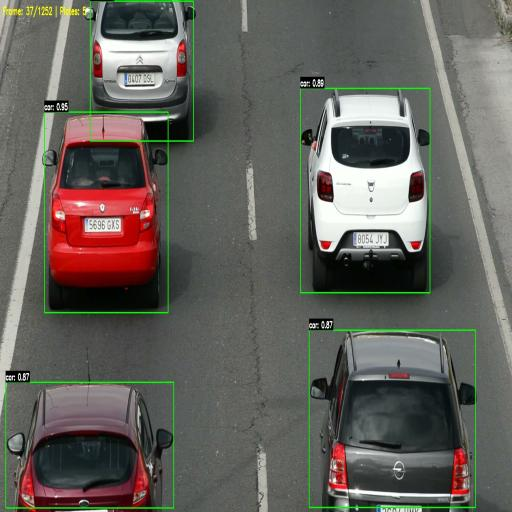license-plate: (353, 232, 389, 248), (376, 505, 423, 512), (377, 505, 422, 512)
